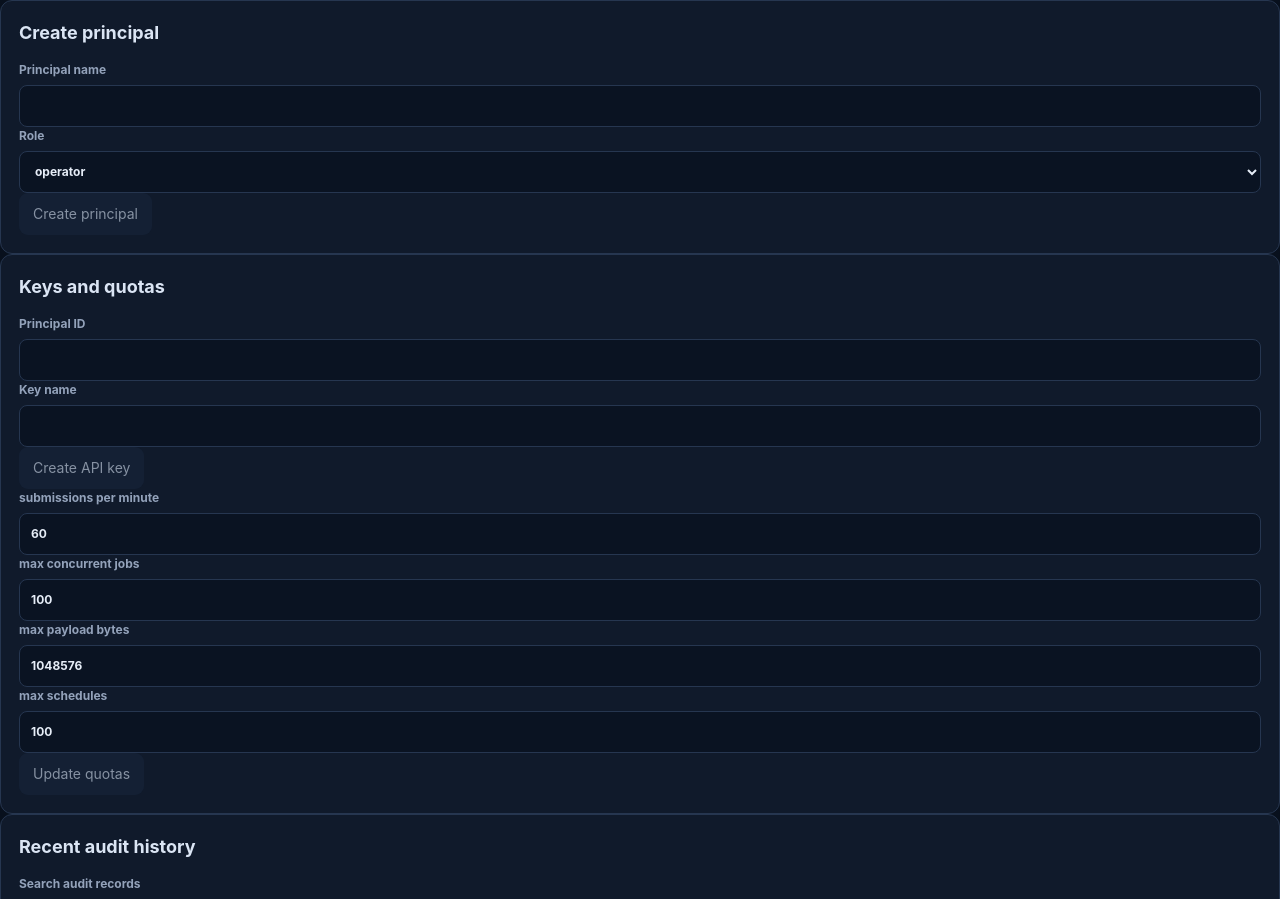
Scenario: admin creation and quota safety › displays a new secret once, refreshes metadata and clears it on close
Type "owner" into the field labelled "Principal ID" at (640, 360), box left=19, top=339, right=1261, bottom=381
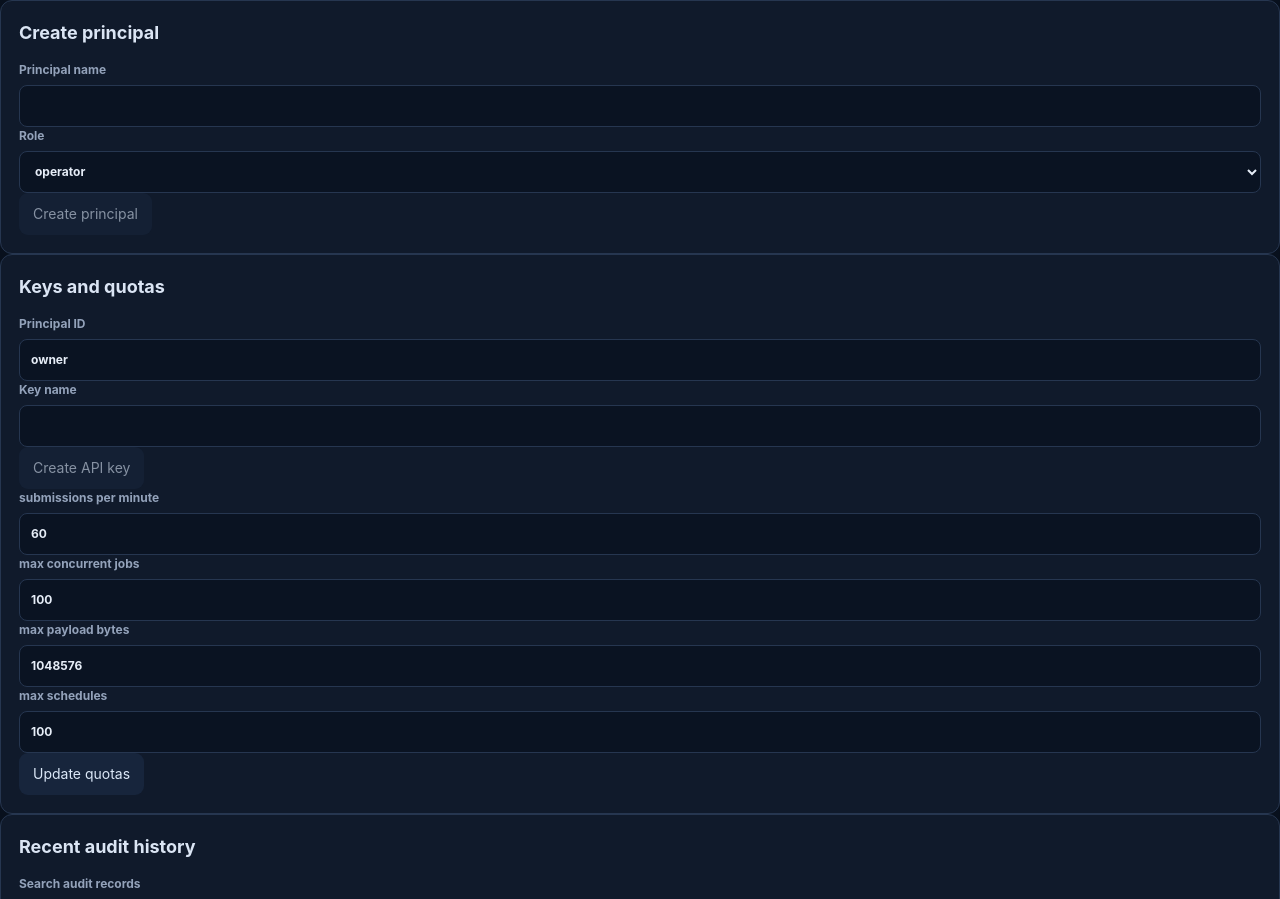
Type "deploy" into the field labelled "Key name" at (640, 426), box left=19, top=405, right=1261, bottom=447
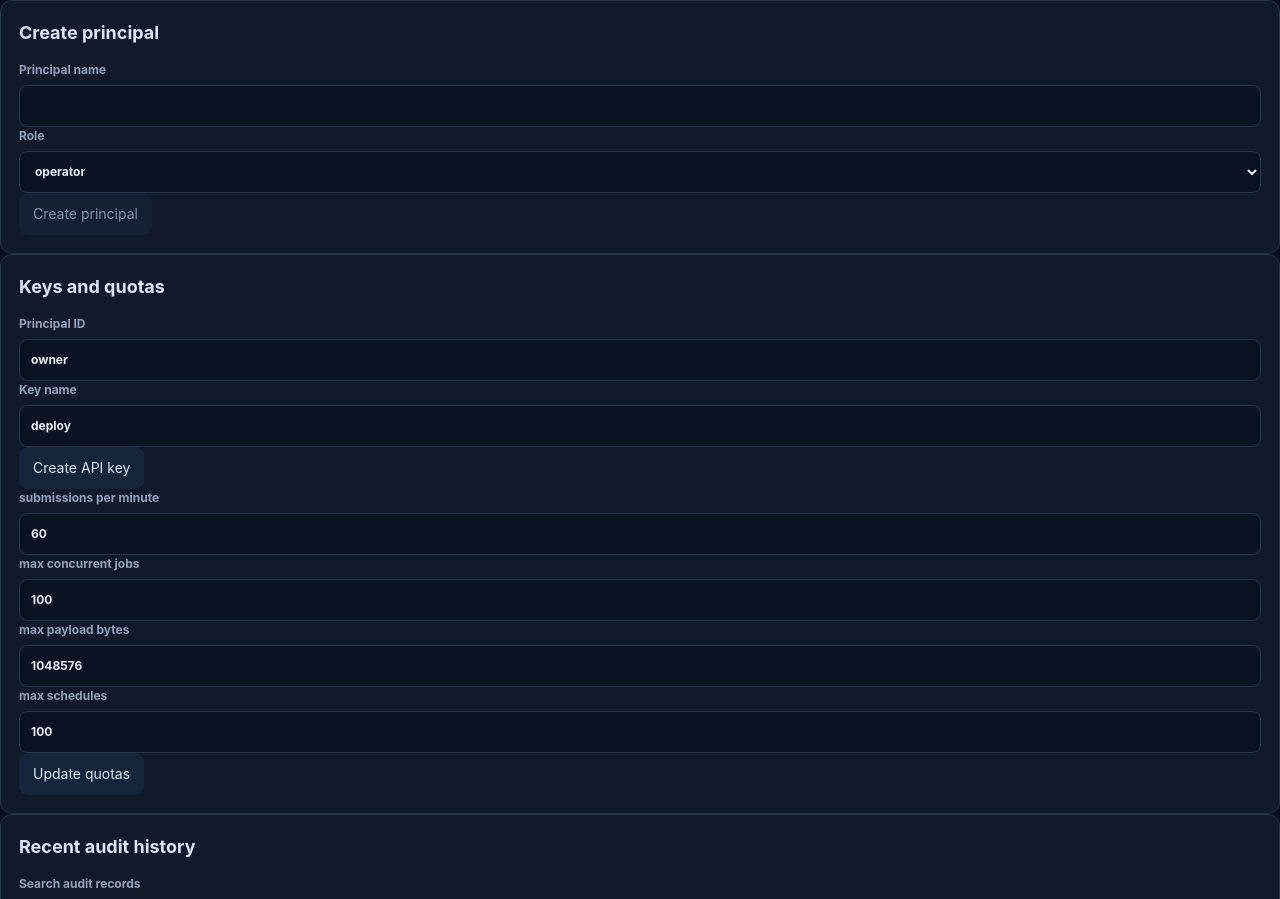
Click the button "Create API key" at (82, 468), box left=19, top=447, right=144, bottom=489
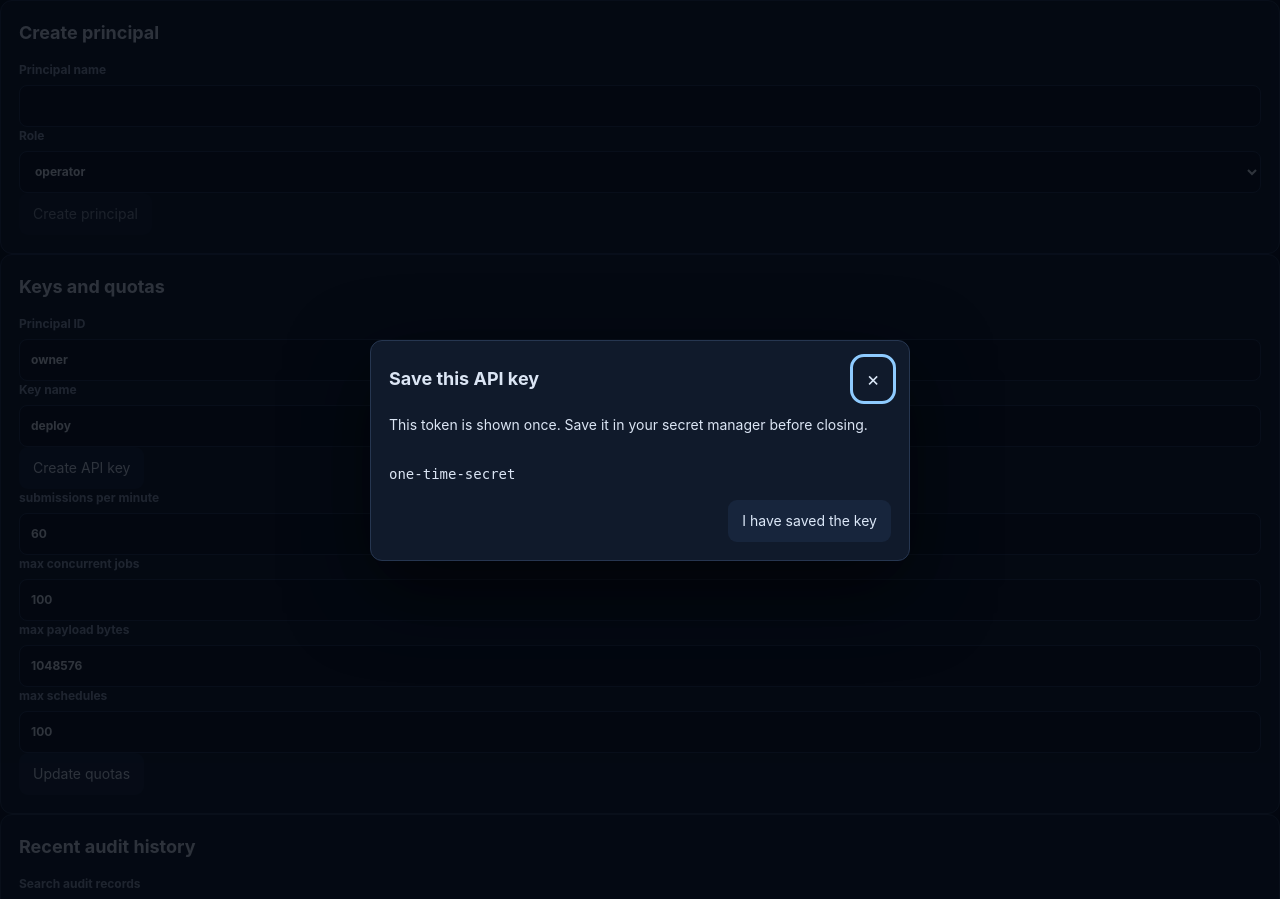
Expected: the text "one-time-secret" is shown, left=389, top=466, right=515, bottom=482
Click the button "I have saved the key" at (810, 520), box left=728, top=500, right=891, bottom=542
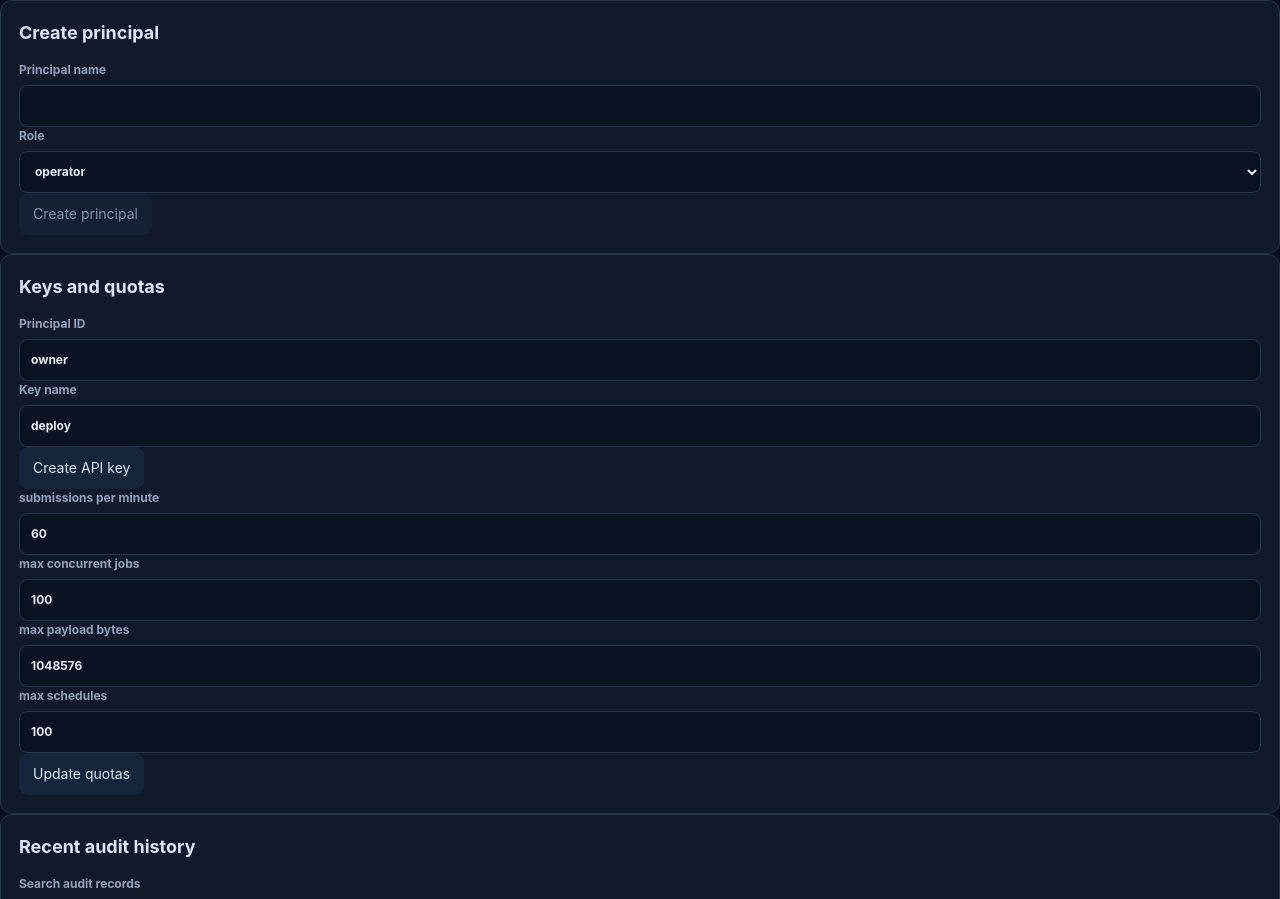
Expected: the text "one-time-secret" is gone
